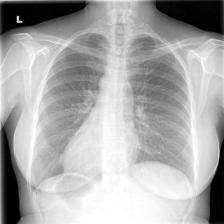normal: (27, 24, 199, 196)
